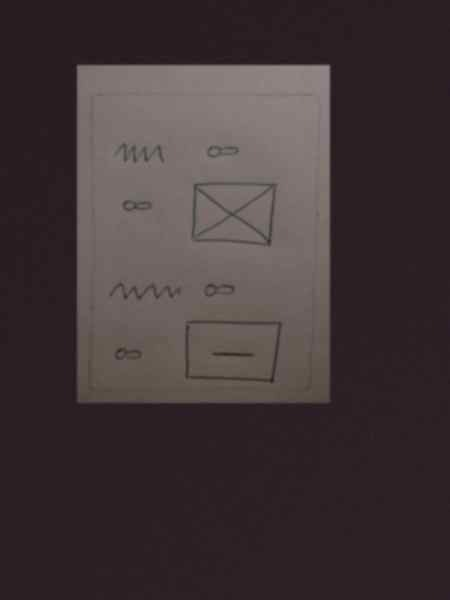image: (185, 177, 283, 255), (180, 317, 286, 385)
switch: (198, 280, 246, 302), (109, 341, 149, 366), (202, 141, 245, 162), (120, 195, 159, 216)
text: (105, 275, 189, 309), (109, 139, 176, 169)
